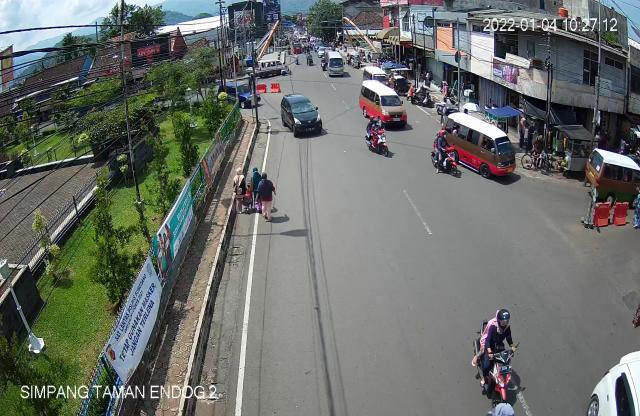Mobil: (440, 109, 520, 185), (585, 146, 640, 223), (276, 92, 330, 144), (360, 81, 412, 132)
Motor: (467, 303, 522, 410), (423, 127, 469, 182), (359, 115, 395, 159)
